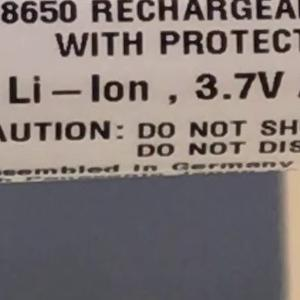keyword: (185, 61, 291, 110)
